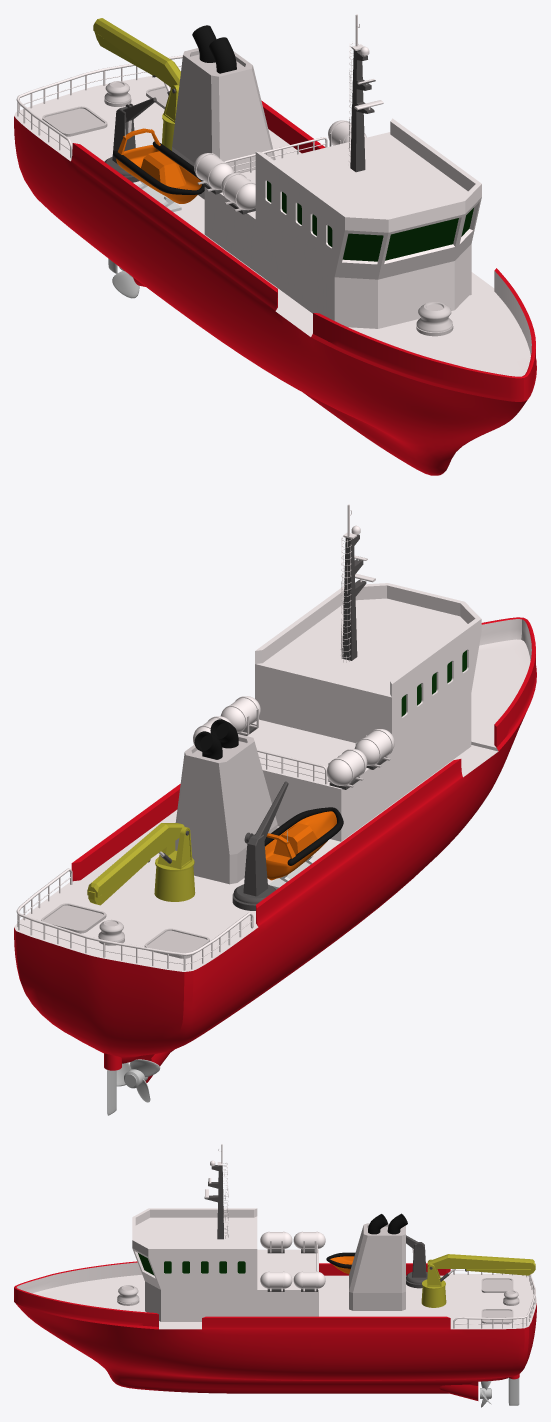
File: GenericSmallShip.glb
3 renders of one model, top to bottom at view 1: azimuth 30°, elevation 25°; view 2: azimuth 150°, elevation 25°; view 3: azimuth 270°, elevation 25°, orthographic. The views are drawn at different scales.
Visible parts, largest first — view 1: Cube.072, Cube.013, Cube.048, Кран|Cube.033|Dupli|1, Cube.015, Cube.449, RIB-R.000|Cube.216|Dupli|, RIB-R.000|Cube.213|Dupli|3, Cylinder.008, RIB-R.000|Cube.215|Dupli|1, Спасательный плот А.002|Sphere.046|Dupli|3, Спасательный плот А.003|Sphere.046|Dupli|3 (+5 smaller); view 2: Cube.072, Cube.013, Cube.048, Кран|Cube.033|Dupli|1, Cube.015, RIB-R.000|Cube.216|Dupli|, Кран|Cylinder.027|Dupli|4, Cube.450, Кранбалка|Cube.070|Dupli|, Vert.023, Cube.449, Спасательный плот А.003|Sphere.046|Dupli|3 (+6 smaller); view 3: Cube.072, Cube.013, Cube.048, Кран|Cube.033|Dupli|1, Cube.015, Кран|Cylinder.027|Dupli|4, Спасательный плот А.000|Sphere.046|Dupli|3, Спасательный плот А.001|Sphere.046|Dupli|3, Спасательный плот А.002|Sphere.046|Dupli|3, Спасательный плот А.003|Sphere.046|Dupli|3, Cylinder.011, Cube.449 (+5 smaller).
Part boxes in pixels (x1,y1,x2,y2): Cube.072: [14, 76, 536, 475]; Cube.013: [204, 118, 481, 328]; Cube.048: [172, 48, 275, 199]; Кран|Cube.033|Dupli|1: [93, 18, 180, 87]; Cube.015: [350, 50, 374, 172]; Cube.449: [42, 106, 107, 136]; RIB-R.000|Cube.216|Dupli|: [116, 145, 201, 203]; RIB-R.000|Cube.213|Dupli|3: [113, 141, 204, 194]; Cylinder.008: [416, 302, 453, 336]; RIB-R.000|Cube.215|Dupli|1: [141, 151, 186, 187]; Спасательный плот А.002|Sphere.046|Dupli|3: [221, 173, 255, 210]; Спасательный плот А.003|Sphere.046|Dupli|3: [194, 153, 233, 189]; Cube.072: [14, 617, 536, 1063]; Cube.013: [247, 583, 481, 841]; Cube.048: [175, 733, 277, 884]; Кран|Cube.033|Dupli|1: [87, 823, 184, 897]; Cube.015: [342, 534, 366, 660]; RIB-R.000|Cube.216|Dupli|: [265, 811, 336, 880]; Кран|Cylinder.027|Dupli|4: [154, 857, 195, 901]; Cube.450: [41, 903, 106, 933]; Кранбалка|Cube.070|Dupli|: [243, 834, 267, 896]; Vert.023: [16, 868, 253, 955]; Cube.449: [144, 928, 209, 958]; Спасательный плот А.003|Sphere.046|Dupli|3: [327, 749, 367, 785]; Cube.072: [14, 1261, 536, 1393]; Cube.013: [132, 1208, 318, 1321]; Cube.048: [349, 1223, 405, 1310]; Кран|Cube.033|Dupli|1: [427, 1254, 534, 1268]; Cube.015: [204, 1165, 223, 1239]; Кран|Cylinder.027|Dupli|4: [421, 1279, 446, 1307]; Спасательный плот А.000|Sphere.046|Dupli|3: [260, 1271, 292, 1288]; Спасательный плот А.001|Sphere.046|Dupli|3: [293, 1271, 325, 1288]; Спасательный плот А.002|Sphere.046|Dupli|3: [260, 1231, 292, 1249]; Спасательный плот А.003|Sphere.046|Dupli|3: [293, 1231, 325, 1249]; Cylinder.011: [439, 1381, 478, 1400]; Cube.449: [481, 1278, 513, 1292].
Bounding box in the file's own units: 15.45 × 34.43 × 61.36.
